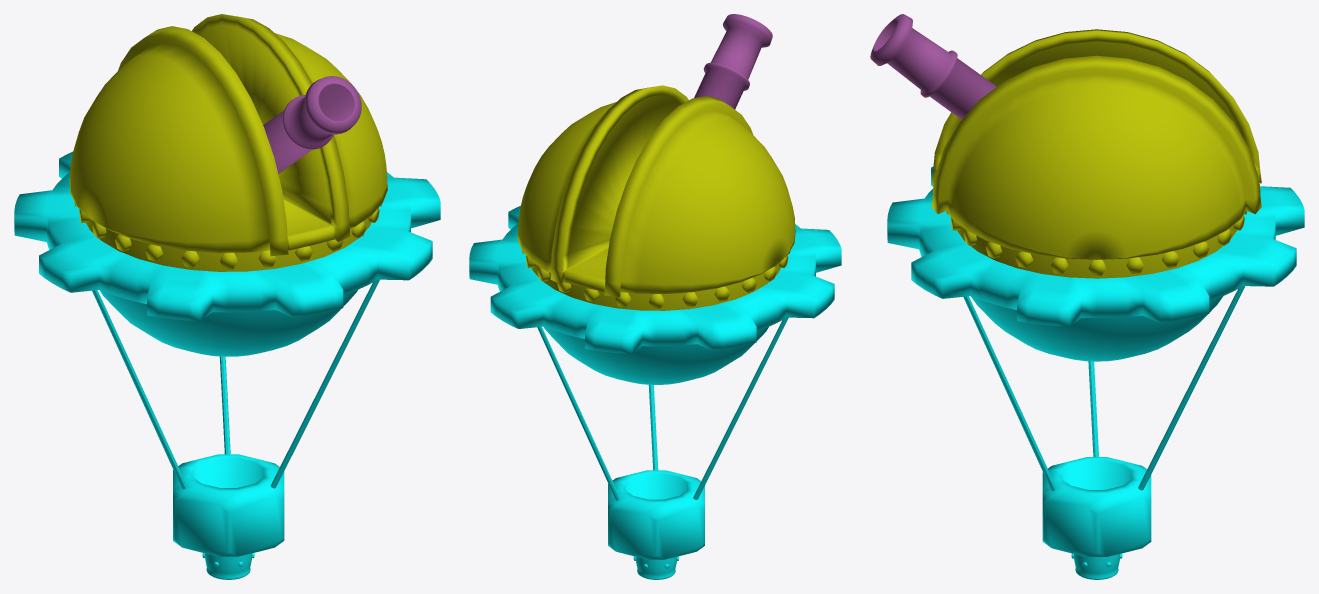
Rendered from balloon_LP.fbx.
The picture shows the model from 3 angles, left to right: view 1: azimuth 30°, elevation 25°; view 2: azimuth 150°, elevation 25°; view 3: azimuth 270°, elevation 25°; orthographic projection. The views are drawn at different scales.
Visible parts, largest first — view 1: balloon_02_01_LP, balloon_01_04_LP, balloon_01_02_LP, balloon_02_02_LP, balloon_01_03_LP, balloon_01_01_LP; view 2: balloon_02_01_LP, balloon_01_04_LP, balloon_01_02_LP, balloon_02_02_LP, balloon_01_03_LP, balloon_01_01_LP; view 3: balloon_02_01_LP, balloon_01_04_LP, balloon_01_02_LP, balloon_02_02_LP, balloon_01_03_LP, balloon_01_01_LP.
Part boxes in pixels (left/top/right/bottom): balloon_02_01_LP: left=69, top=14, right=387, bottom=271; balloon_01_04_LP: left=14, top=151, right=440, bottom=356; balloon_01_02_LP: left=173, top=454, right=284, bottom=556; balloon_02_02_LP: left=263, top=76, right=361, bottom=173; balloon_01_03_LP: left=92, top=279, right=379, bottom=488; balloon_01_01_LP: left=202, top=553, right=254, bottom=579; balloon_02_01_LP: left=517, top=85, right=795, bottom=310; balloon_01_04_LP: left=469, top=206, right=841, bottom=384; balloon_01_02_LP: left=608, top=470, right=704, bottom=559; balloon_02_02_LP: left=694, top=14, right=772, bottom=109; balloon_01_03_LP: left=537, top=317, right=788, bottom=500; balloon_01_01_LP: left=633, top=556, right=679, bottom=579; balloon_02_01_LP: left=931, top=29, right=1261, bottom=278; balloon_01_04_LP: left=887, top=166, right=1304, bottom=361; balloon_01_02_LP: left=1042, top=457, right=1151, bottom=556; balloon_02_02_LP: left=870, top=14, right=996, bottom=119; balloon_01_03_LP: left=963, top=286, right=1245, bottom=490; balloon_01_01_LP: left=1071, top=553, right=1122, bottom=579.
Size of the model in its own units: 535 by 784 by 556.
